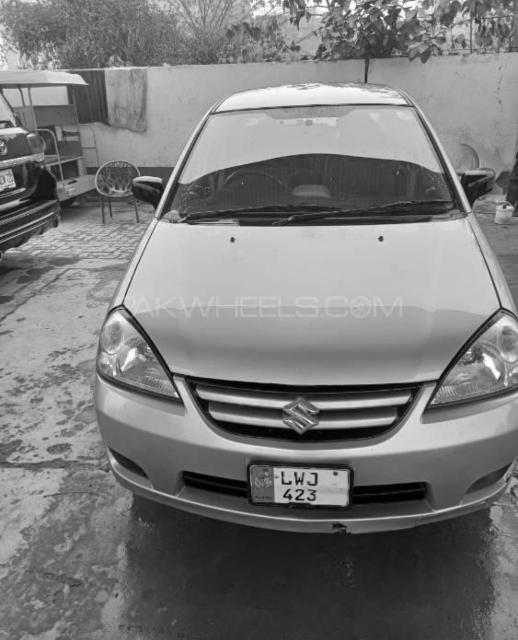Number: (278, 471, 320, 504)
